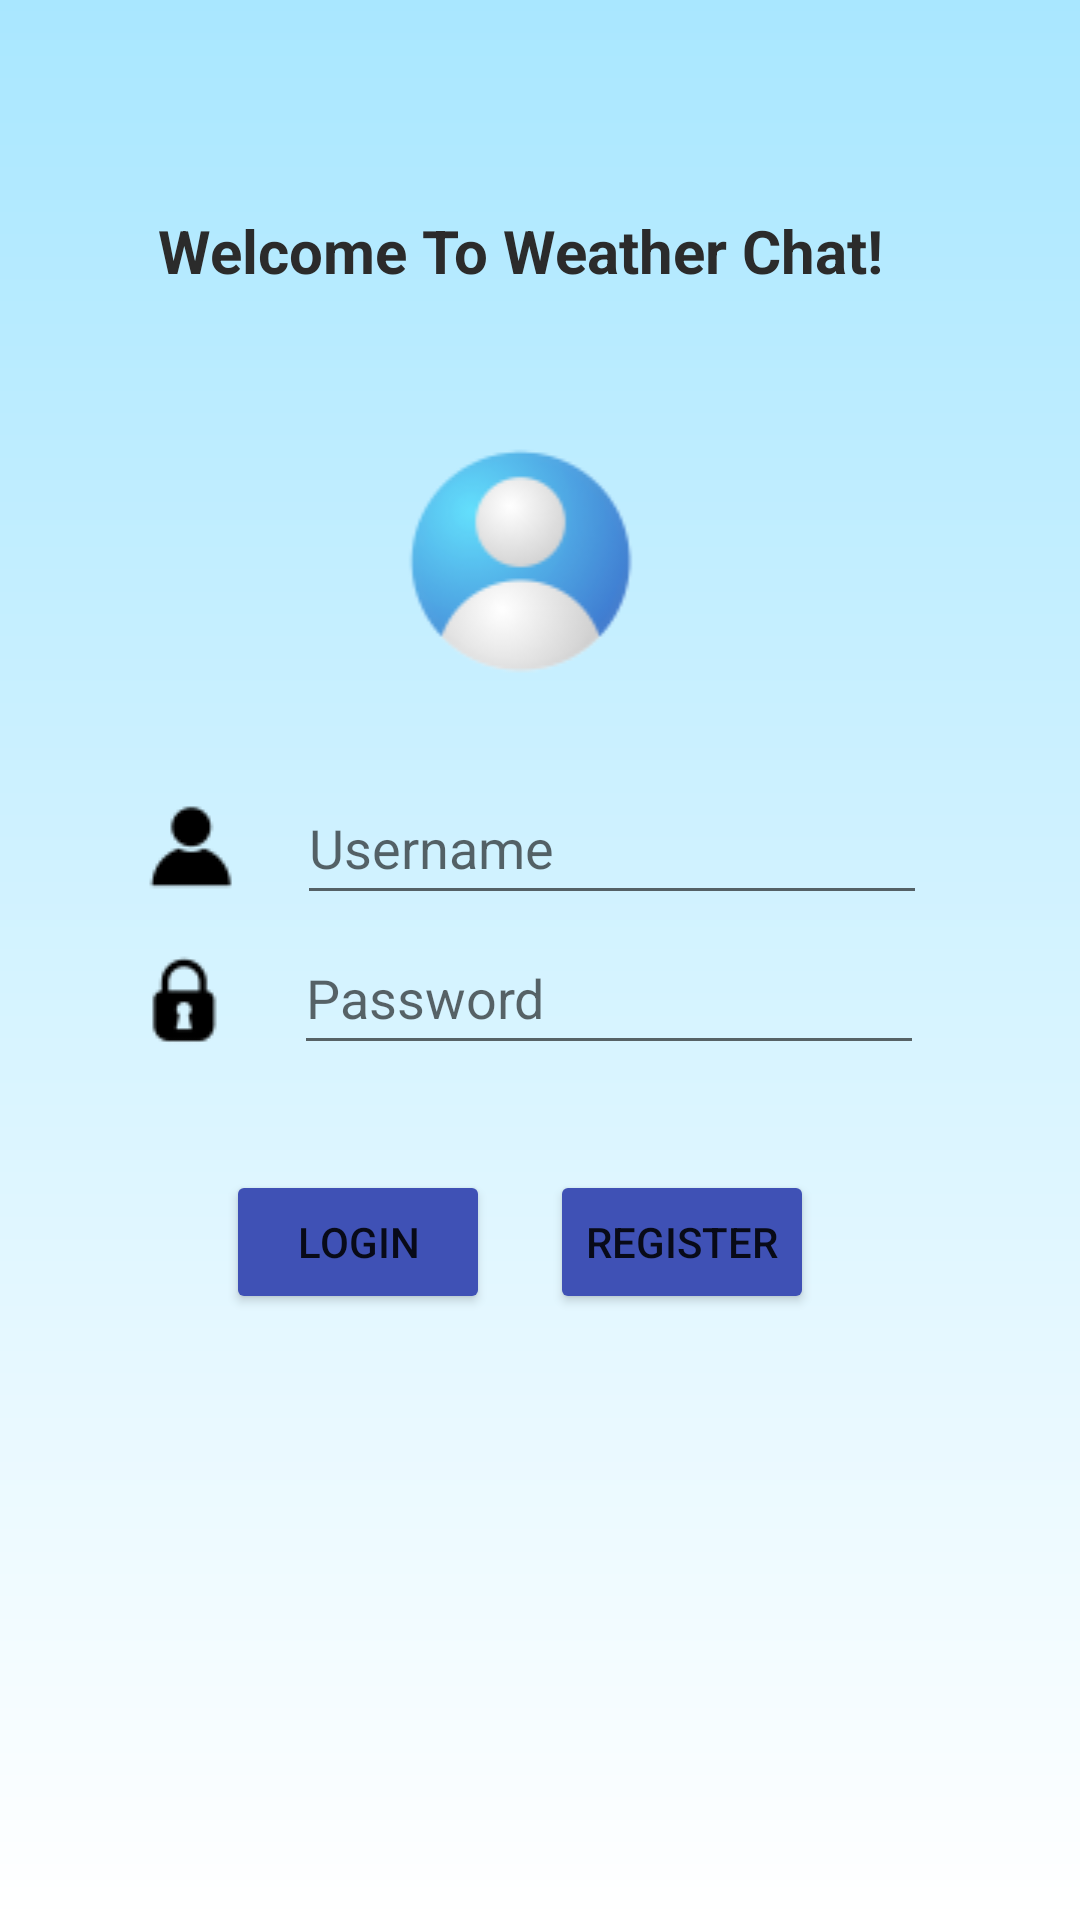

Locate icon controls on the screen. Image size 1080px x 1920px, boxes as (x1, y1, x2, y2).
candadov: (152, 957, 217, 1042)
userv reloaded: (150, 806, 232, 887)
